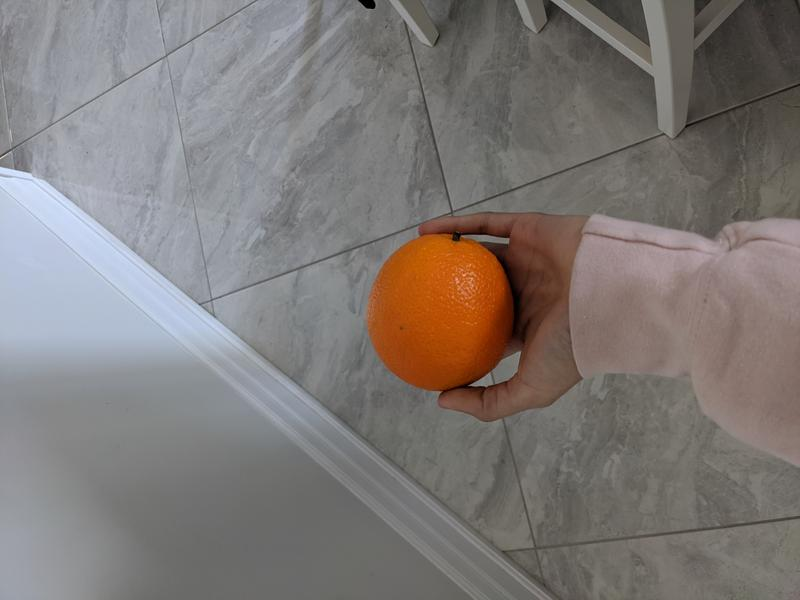orange: (364, 233, 515, 393)
